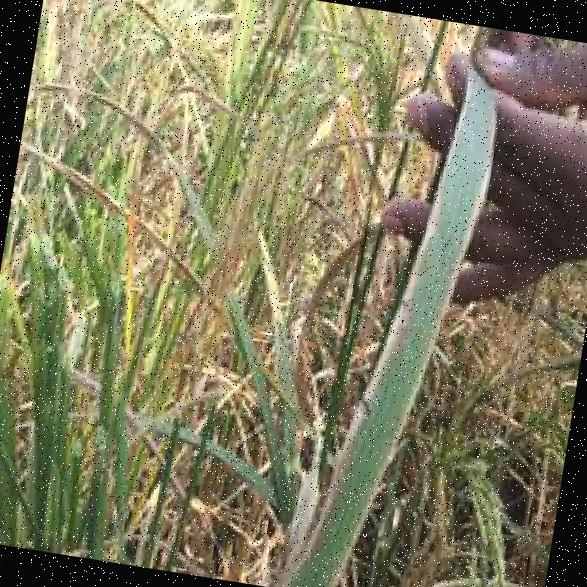Bacteria_Leaf_Blight: (312, 154, 464, 536)
